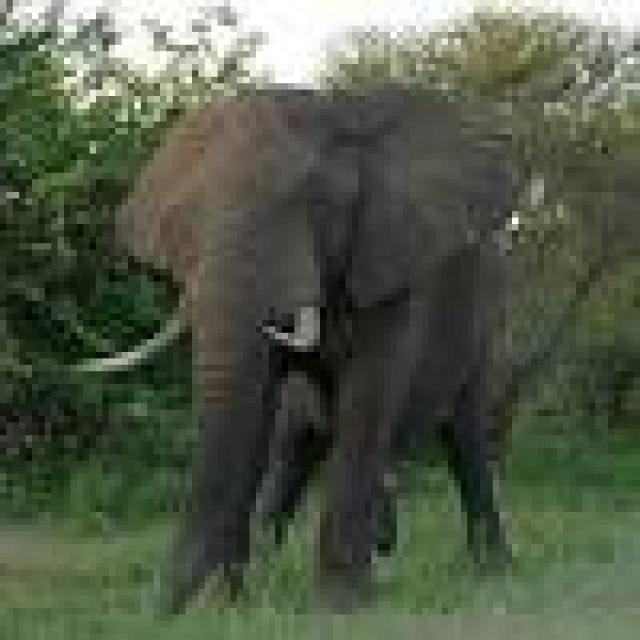Elephant: (64, 77, 525, 614)
